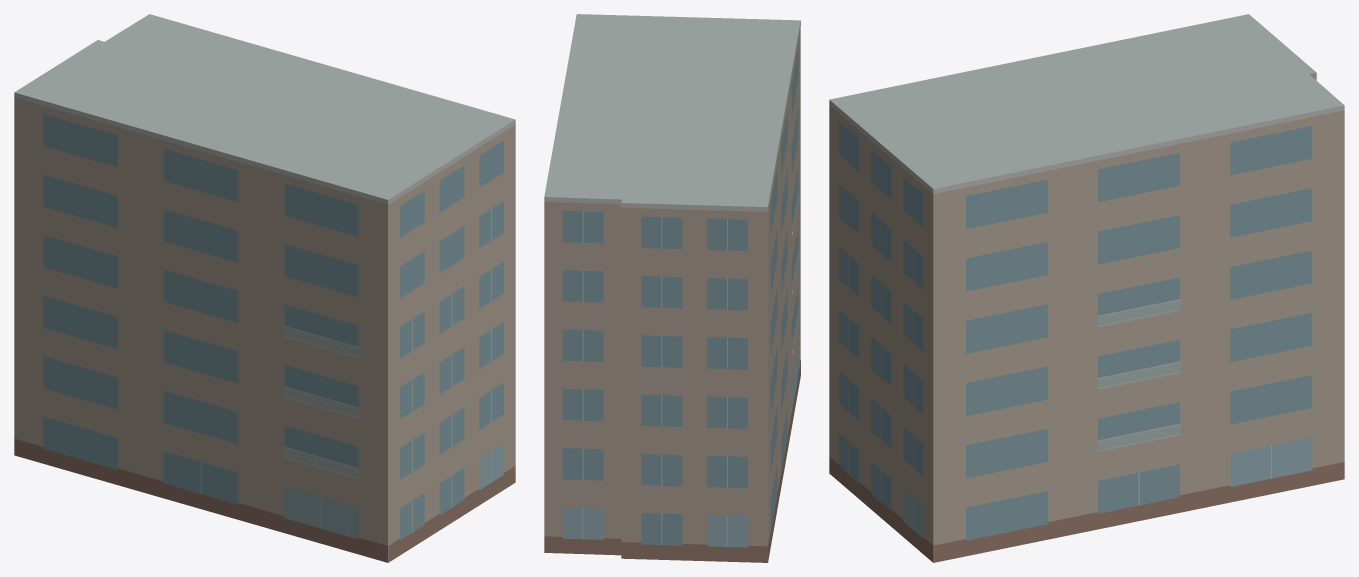
Rendered from survey-upis-32702146.glb.
3 renders of one model, left to right at view 1: azimuth 30°, elevation 25°; view 2: azimuth 150°, elevation 25°; view 3: azimuth 270°, elevation 25°, orthographic. The views are drawn at different scales.
Visible parts, largest first — view 1: survey-upis-32702146.tmp; view 2: survey-upis-32702146.tmp; view 3: survey-upis-32702146.tmp.
Boxes of the visible parts, bbox=[...] form: survey-upis-32702146.tmp: bbox=[14, 14, 515, 562]; survey-upis-32702146.tmp: bbox=[544, 14, 800, 562]; survey-upis-32702146.tmp: bbox=[829, 14, 1344, 562].
Size of the model in its own units: 18.18 by 18.1 by 22.62.
